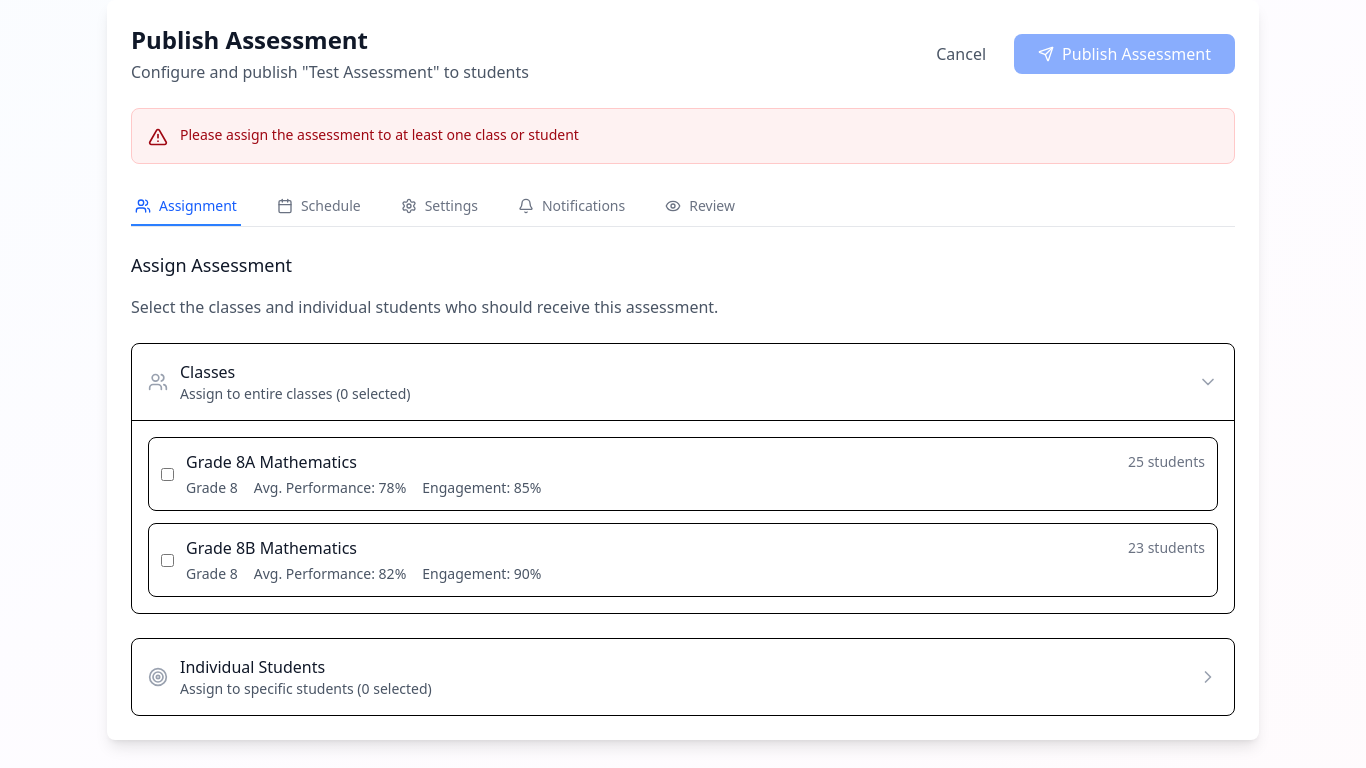
Test: AssessmentPublisher › Review Tab › switches to review tab and shows comprehensive summary
The width and height of the screenshot is (1366, 768).
Click the button "Review".
click(700, 207)  # box [661,188,739,226]
(page scrolled)
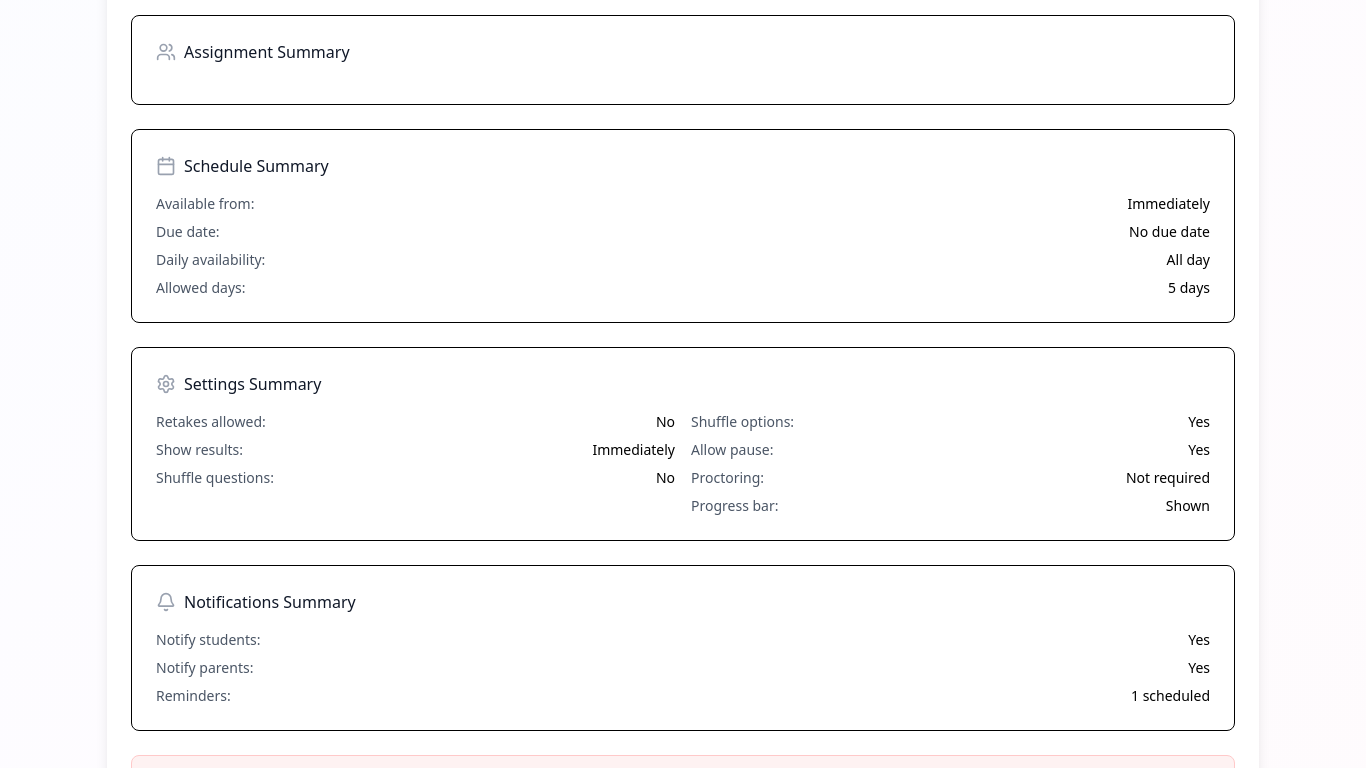
expect the text "Schedule Summary" is shown: met, box [184,154,329,178]
expect the text "Settings Summary" is shown: met, box [184,372,321,396]
